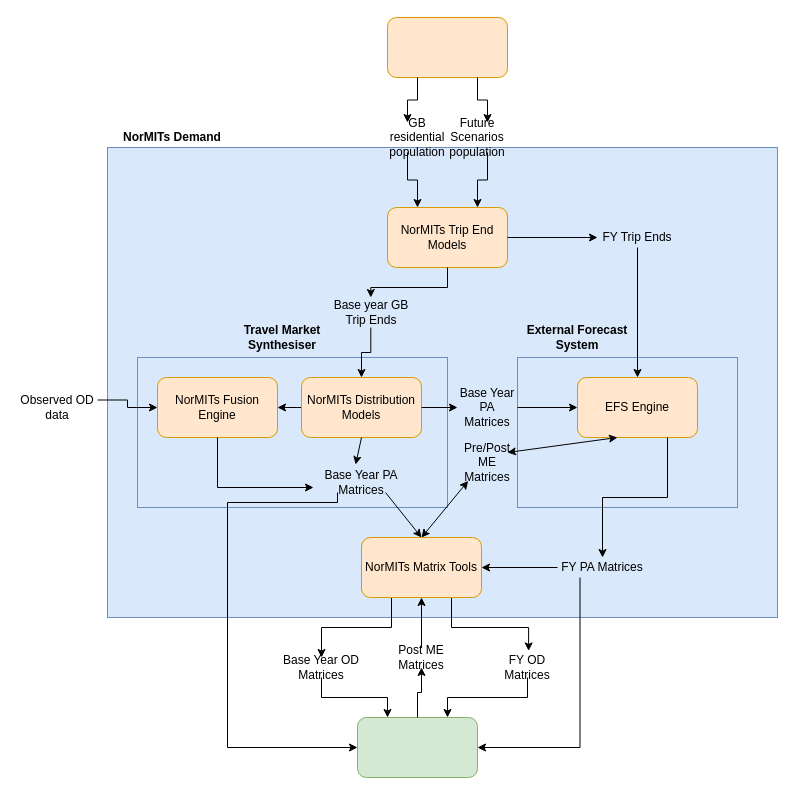
This 795x795 diagram has some shape labels left out. Here are the shapes that lost their labels. From the top down, the box of each, then its label:
(386, 16, 508, 78): NorMITs Land Use
(356, 716, 478, 778): Output
